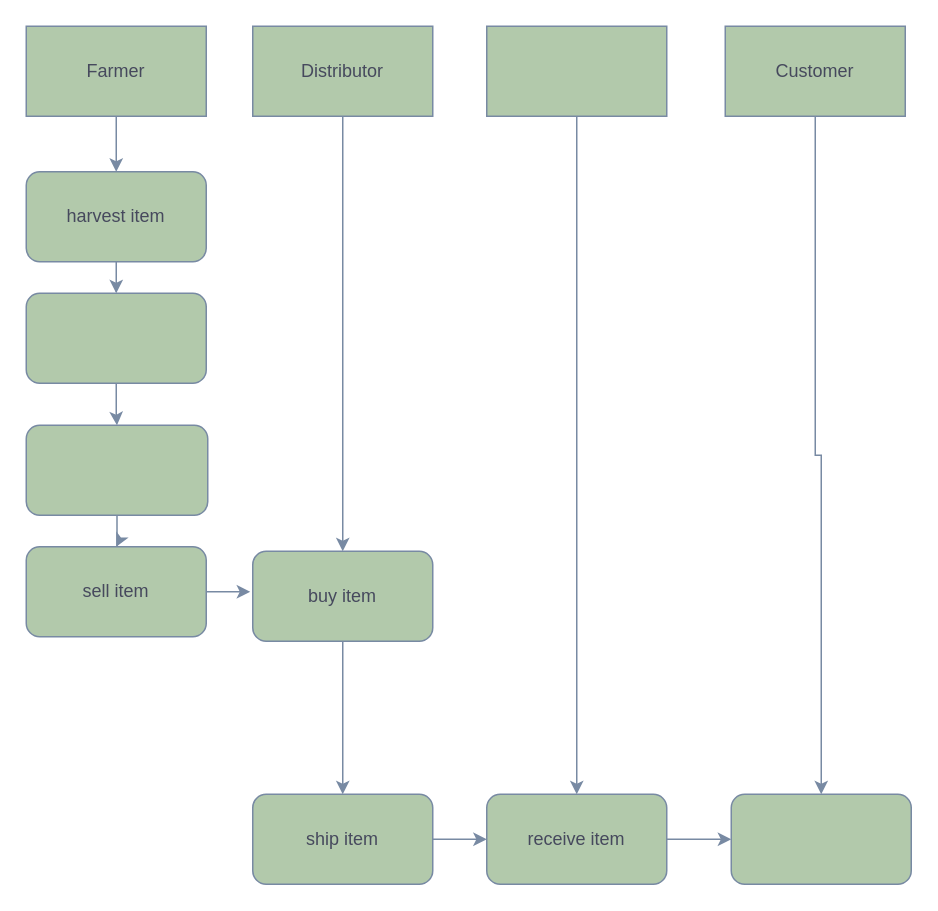
The diagram is 938 pixels wide and 911 high, and some of its shapes have lost their labels. Each missing label, with the box of its shape:
pack item: (25, 424, 208, 515)
process item: (25, 292, 206, 383)
purchase item: (730, 793, 911, 884)
Retailer: (485, 25, 667, 116)
